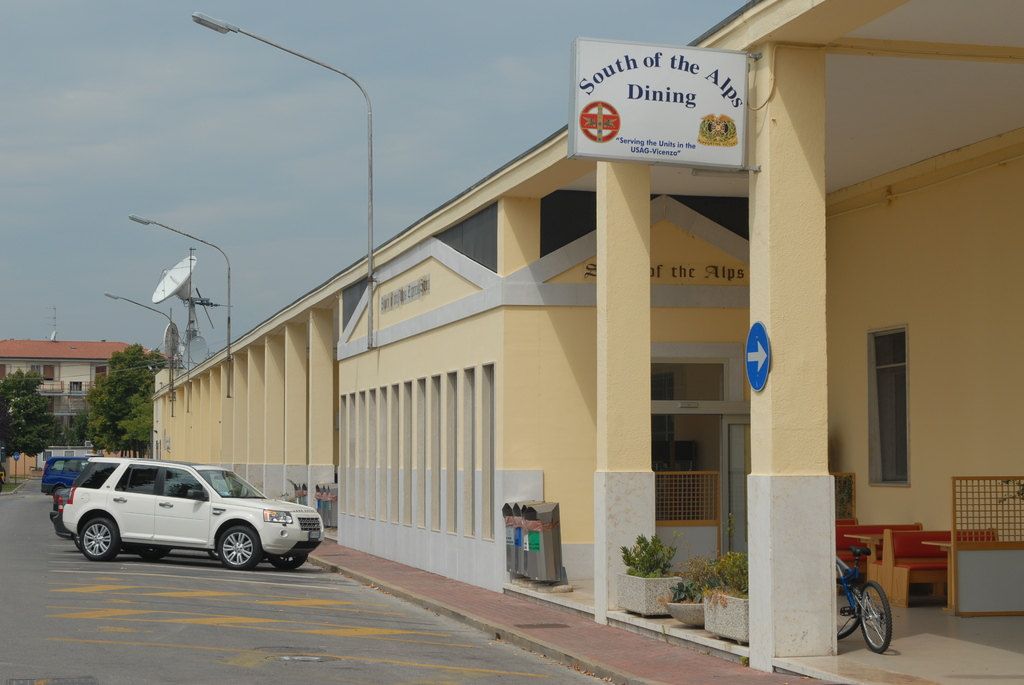Car: (64, 457, 324, 566), (40, 455, 88, 494)
